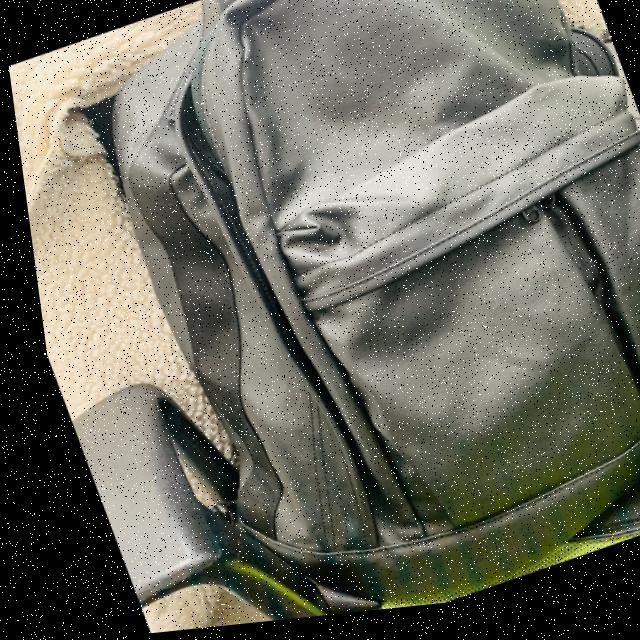backpack: (26, 0, 640, 638)
